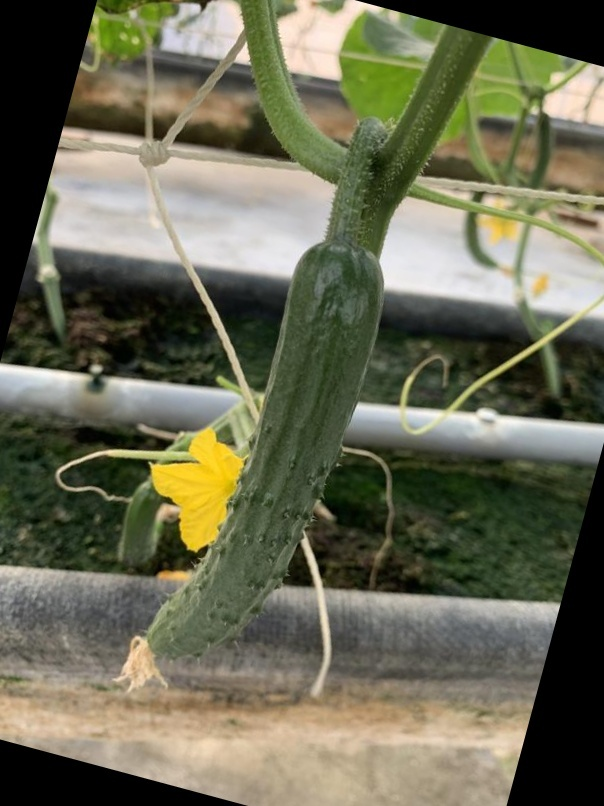mature: (135, 229, 398, 705)
